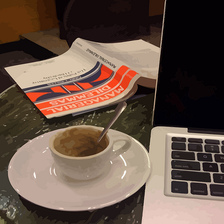laptop: (115, 1, 224, 224)
